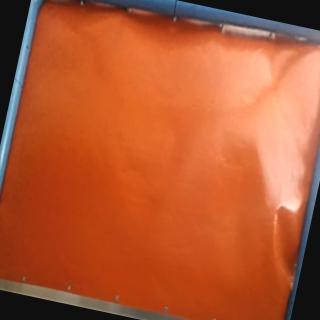Hit-hRxx: (280, 200, 303, 218)
